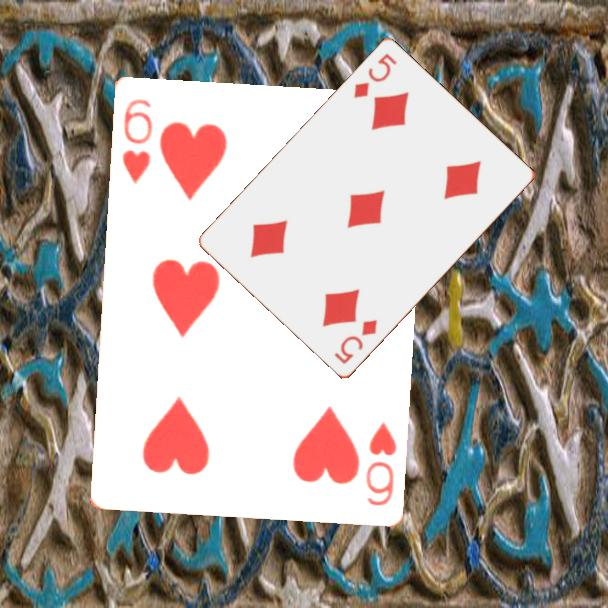d05: (350, 50, 400, 102), (331, 316, 380, 367)
h06: (118, 95, 155, 186), (362, 418, 399, 508)
